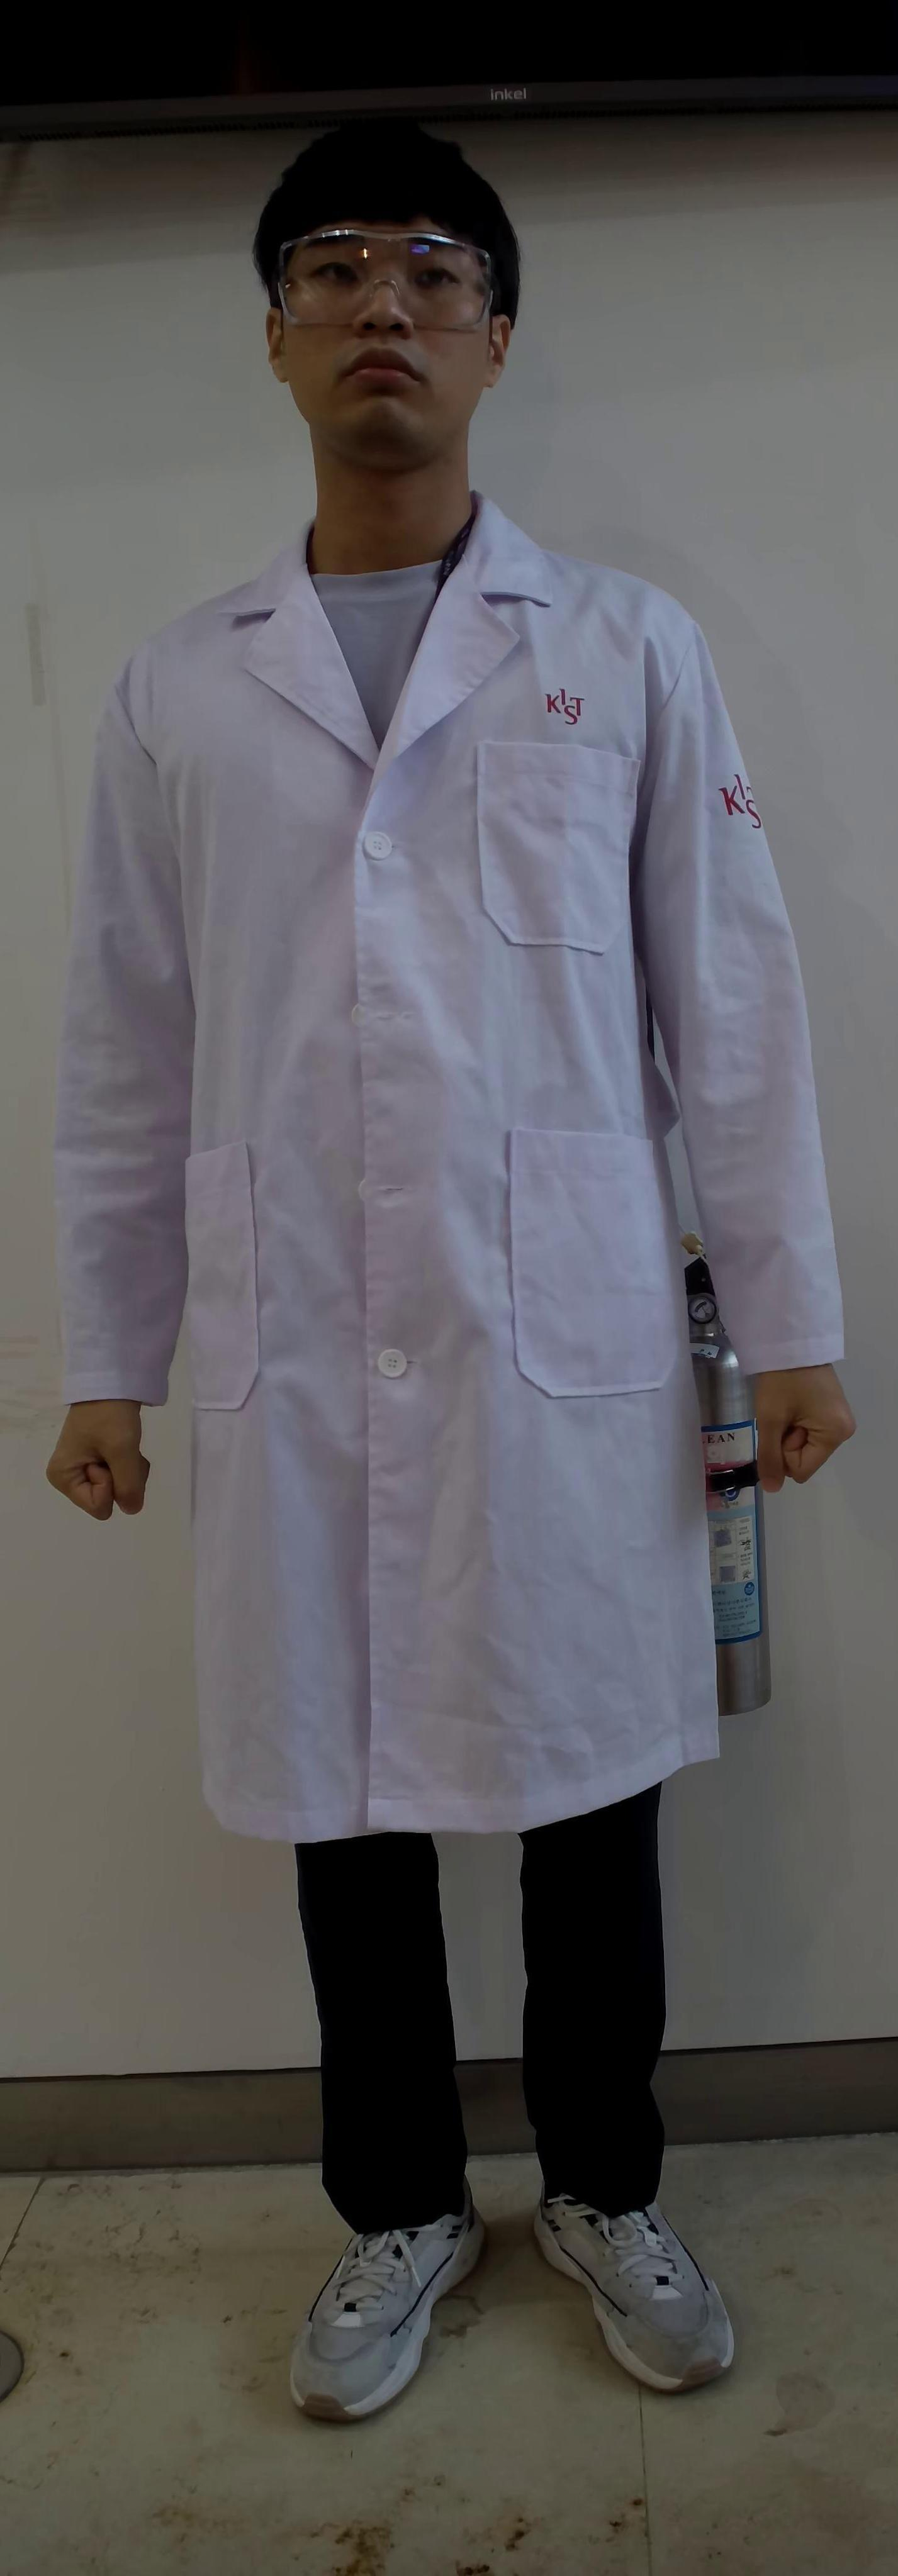lab_coat: (153, 580, 715, 1784)
